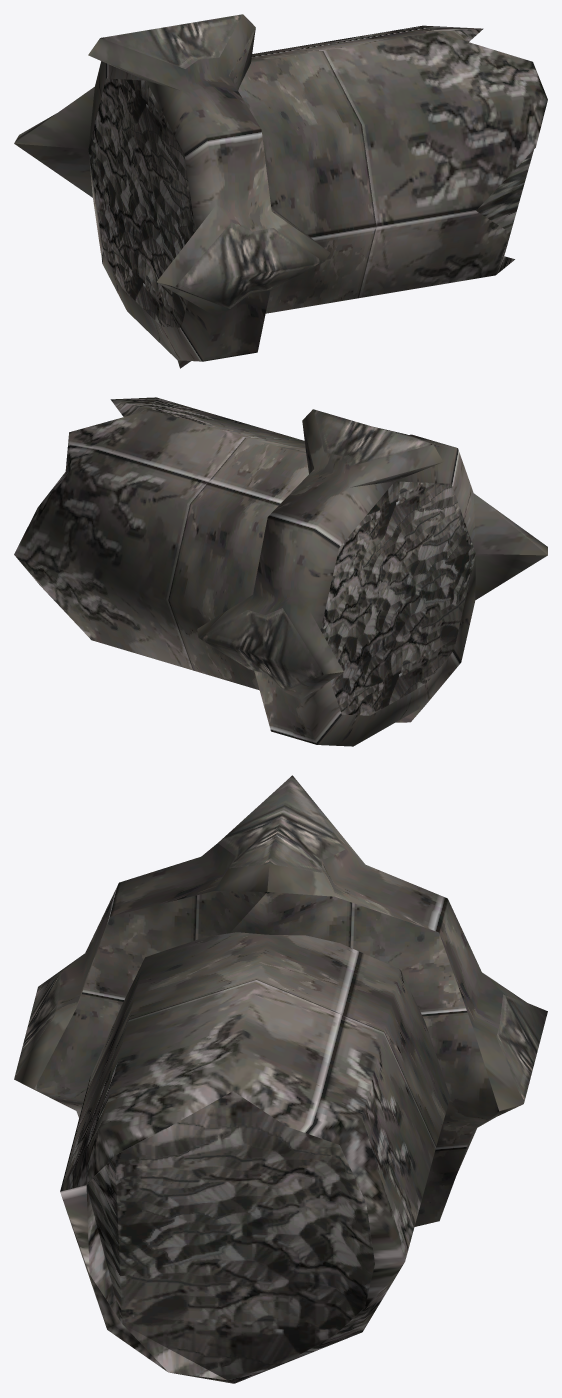
The model's file is INST_SM_COLUMN_BROKEN_PIECEC.fbx.
The picture shows the model from 3 angles, top to bottom: view 1: azimuth 30°, elevation 25°; view 2: azimuth 150°, elevation 25°; view 3: azimuth 270°, elevation 25°; orthographic projection. The views are drawn at different scales.
Visible parts, largest first — view 1: INST_SM_COLUMN_BROKEN_PIECEC; view 2: INST_SM_COLUMN_BROKEN_PIECEC; view 3: INST_SM_COLUMN_BROKEN_PIECEC.
Part boxes in pixels (x1=…): INST_SM_COLUMN_BROKEN_PIECEC: x1=14, y1=14, x2=547, y2=368; INST_SM_COLUMN_BROKEN_PIECEC: x1=14, y1=397, x2=547, y2=746; INST_SM_COLUMN_BROKEN_PIECEC: x1=14, y1=775, x2=547, y2=1383.
Size of the model in its own units: 43062 by 31086 by 35501.
4 materials, 4 textured.
